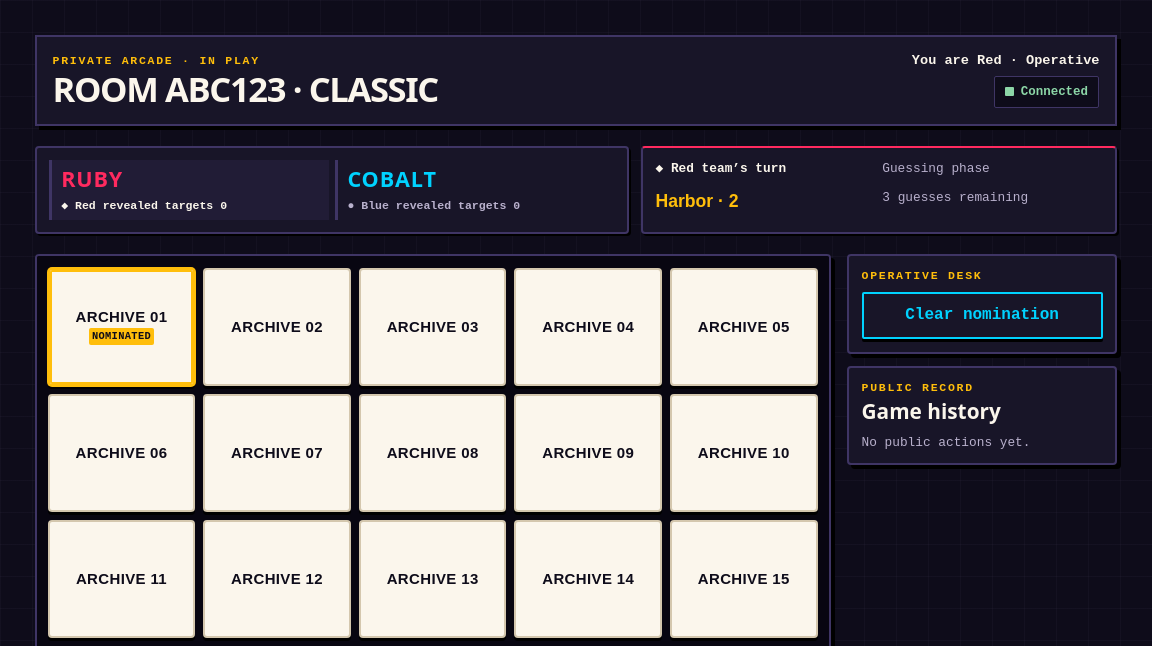
Scenario: GameView operative and moderation interactions › retires an open reveal dialog when nomination, phase, or reveal state becomes stale
The width and height of the screenshot is (1152, 646).
Click the button with aria-label "Archive 01, nominated".
click(121, 327)  # box [48,268,195,386]
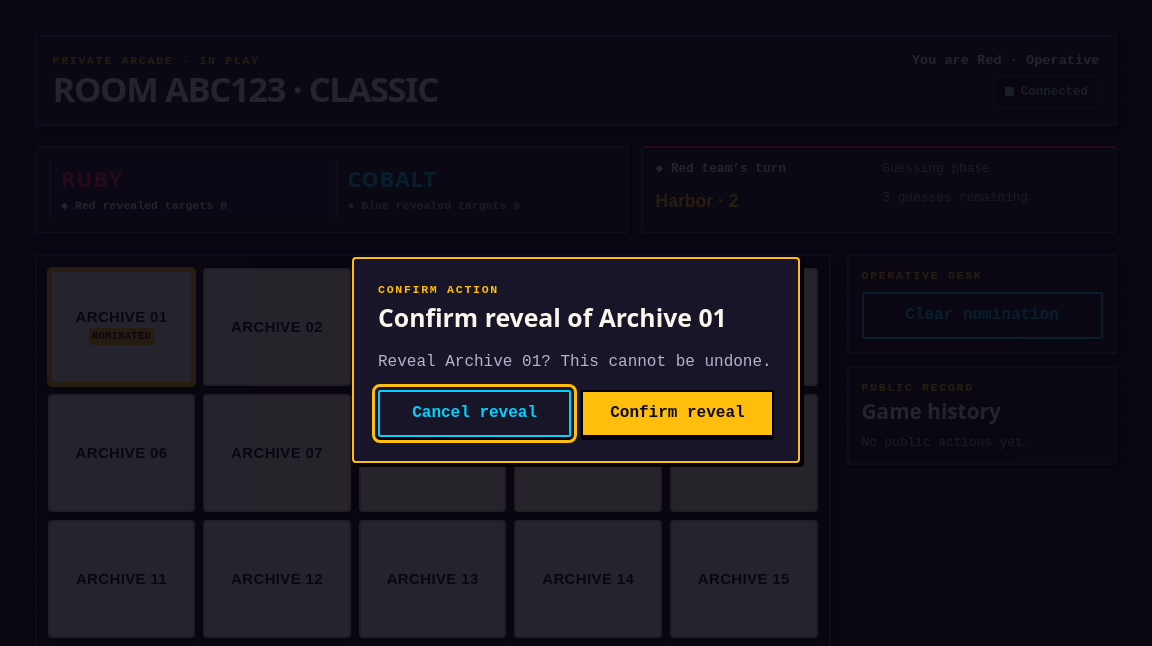
Result: the dialog is shown at [352,257,800,463]
